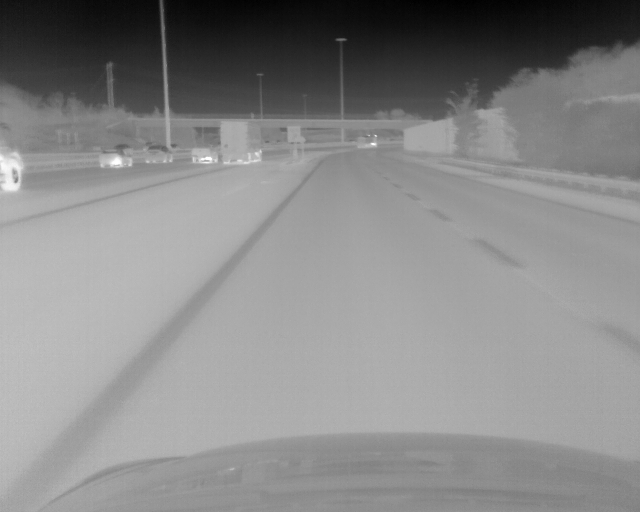car: (218, 119, 262, 165), (1, 143, 24, 194), (99, 148, 132, 168), (191, 143, 218, 164), (144, 145, 172, 164), (357, 133, 379, 148)
